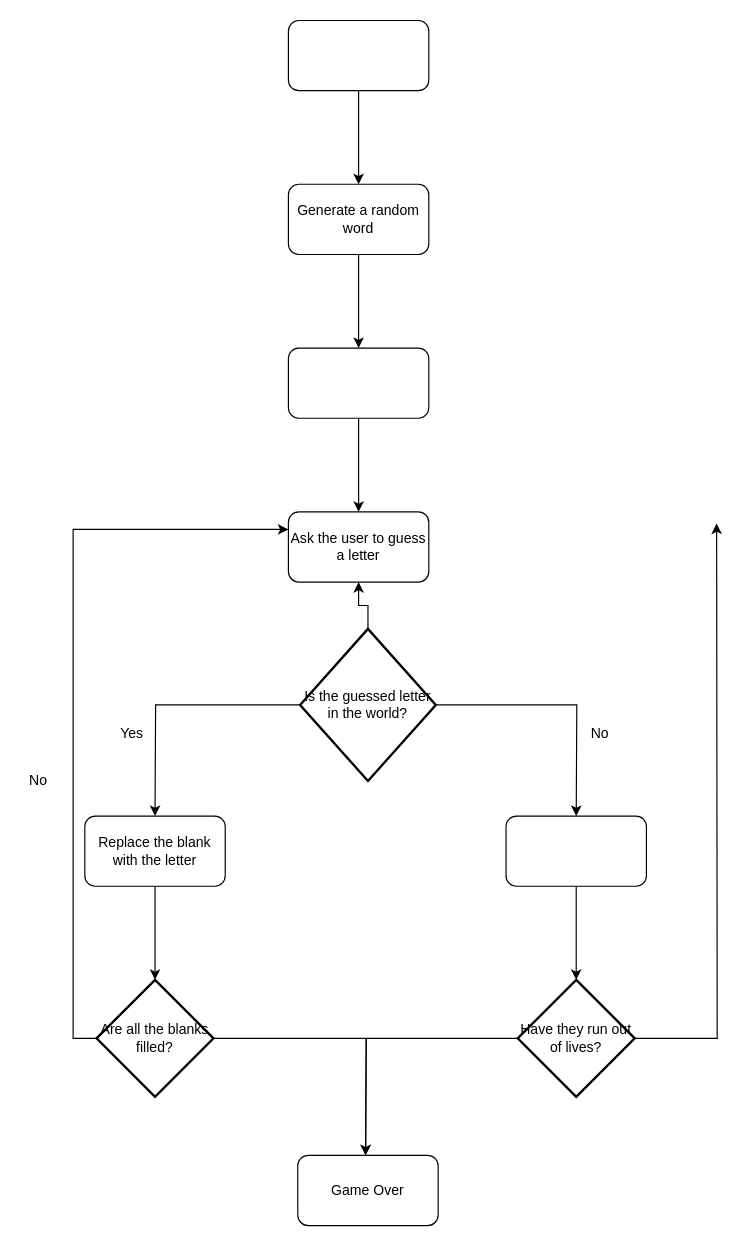
Some shapes in this 746 by 1246 pixel diagram are drawn without their labels. The centre of each missing label's shape, as x and y in pixels:
"Generate as many blanks as letters in word" goes at point (358, 382).
"Lose a life" goes at point (575, 850).
"Start" goes at point (358, 55).
